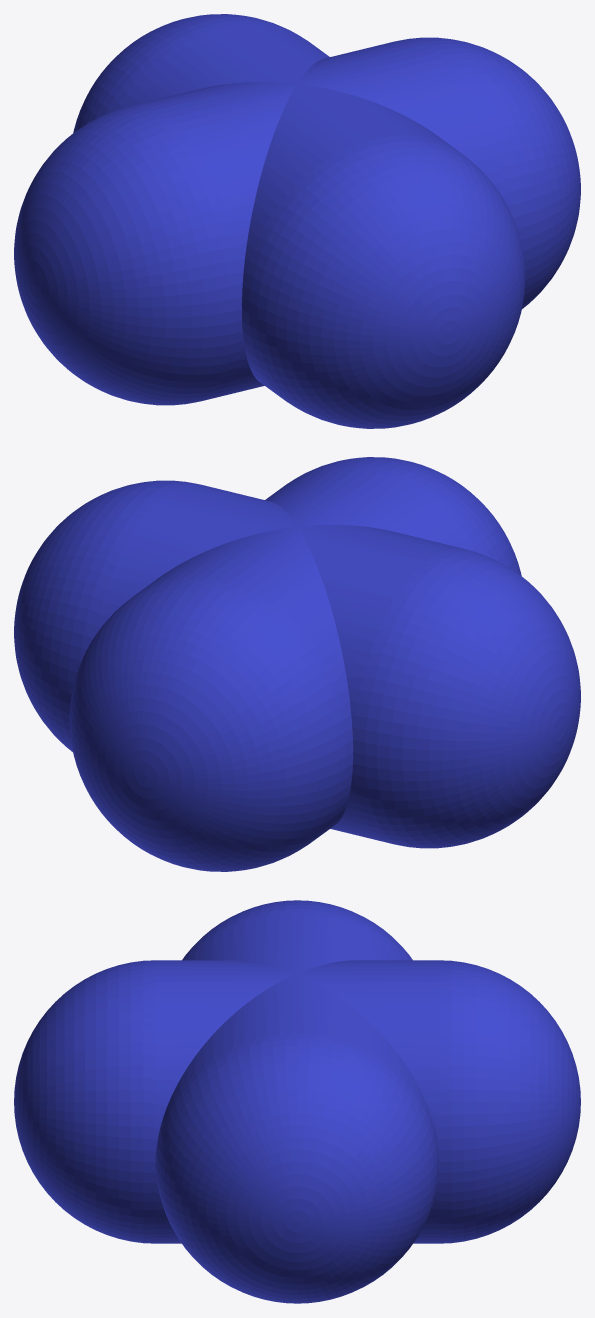
Rendered from Four-way.glb.
3 views of the same model, one above another, from view 1: azimuth 30°, elevation 25°; view 2: azimuth 150°, elevation 25°; view 3: azimuth 270°, elevation 25° (orthographic). The views are drawn at different scales.
Visible parts, largest first — view 1: node_id3; view 2: node_id3; view 3: node_id3.
Part boxes in pixels (bbox=[...]): node_id3: bbox=[14, 14, 580, 428]; node_id3: bbox=[14, 457, 580, 871]; node_id3: bbox=[14, 900, 580, 1303].
Size of the model in its own units: 0.512 by 0.256 by 0.512.
Materials: 1 (1 with a texture image).
